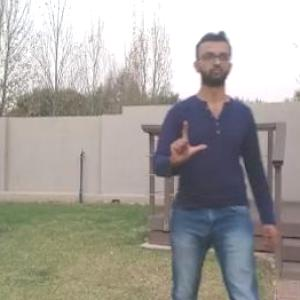land_hand: (166, 112, 216, 170)
